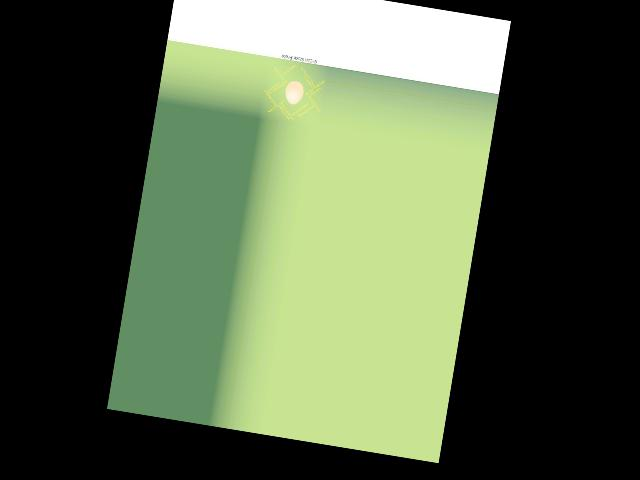egg: (283, 79, 304, 105)
